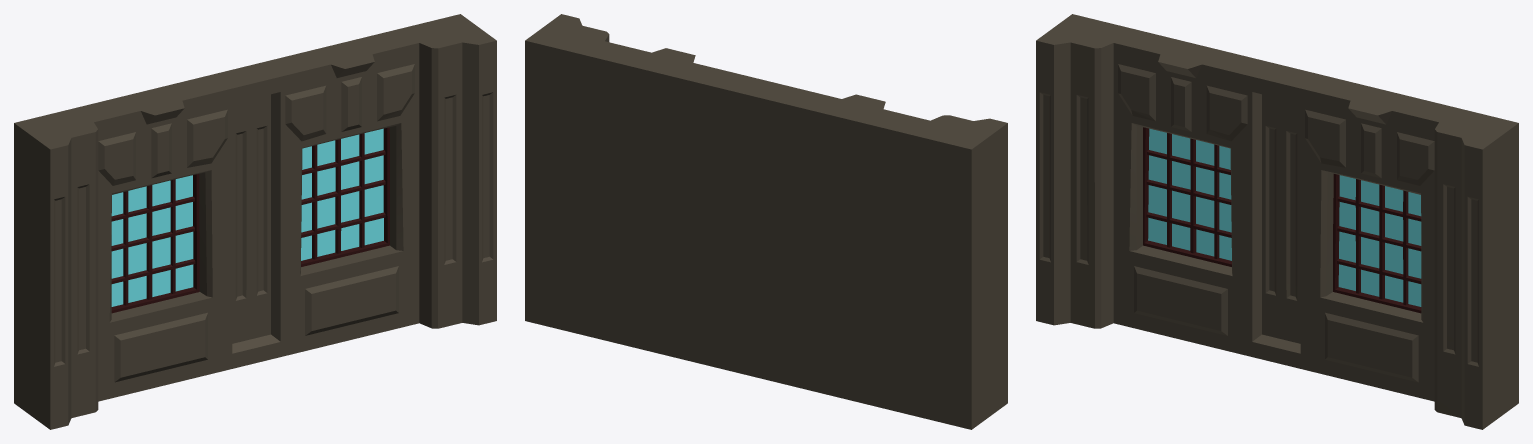
Rendered from P_facadeDETAIL1SquareAvecBF.FBX.
3 views of the same model, side by side, from view 1: azimuth 30°, elevation 25°; view 2: azimuth 150°, elevation 25°; view 3: azimuth 330°, elevation 25° (orthographic).
Visible parts, largest first — view 1: Box061; view 2: Box061; view 3: Box061.
Boxes of the visible parts, box(x1,y1,x2,y2) form: Box061: box(14, 14, 496, 429); Box061: box(525, 14, 1007, 429); Box061: box(1036, 14, 1518, 429).
Size of the model in its own units: 500 by 300 by 70.51.
